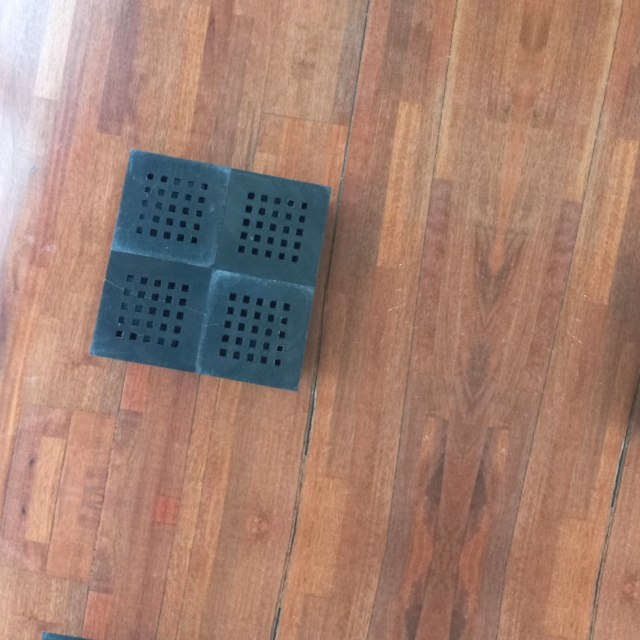pallet: (83, 141, 339, 399)
